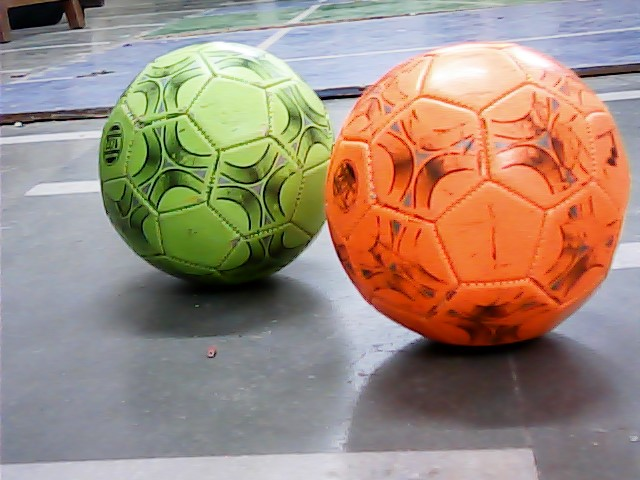Green_ball: (101, 42, 344, 297)
Orange_ball: (320, 29, 637, 352)
